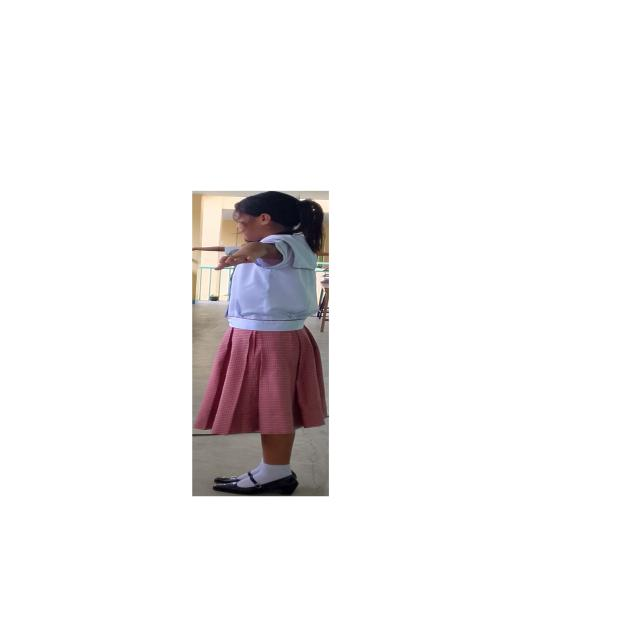skirt: (194, 327, 327, 435)
